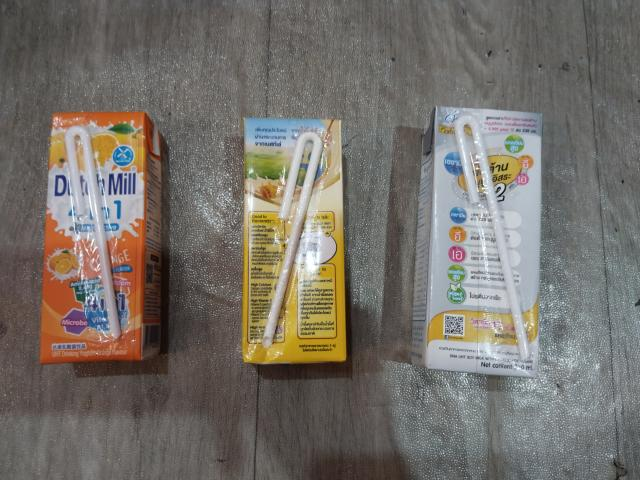drink_box: (421, 107, 543, 382), (44, 107, 167, 363), (239, 116, 354, 372)
